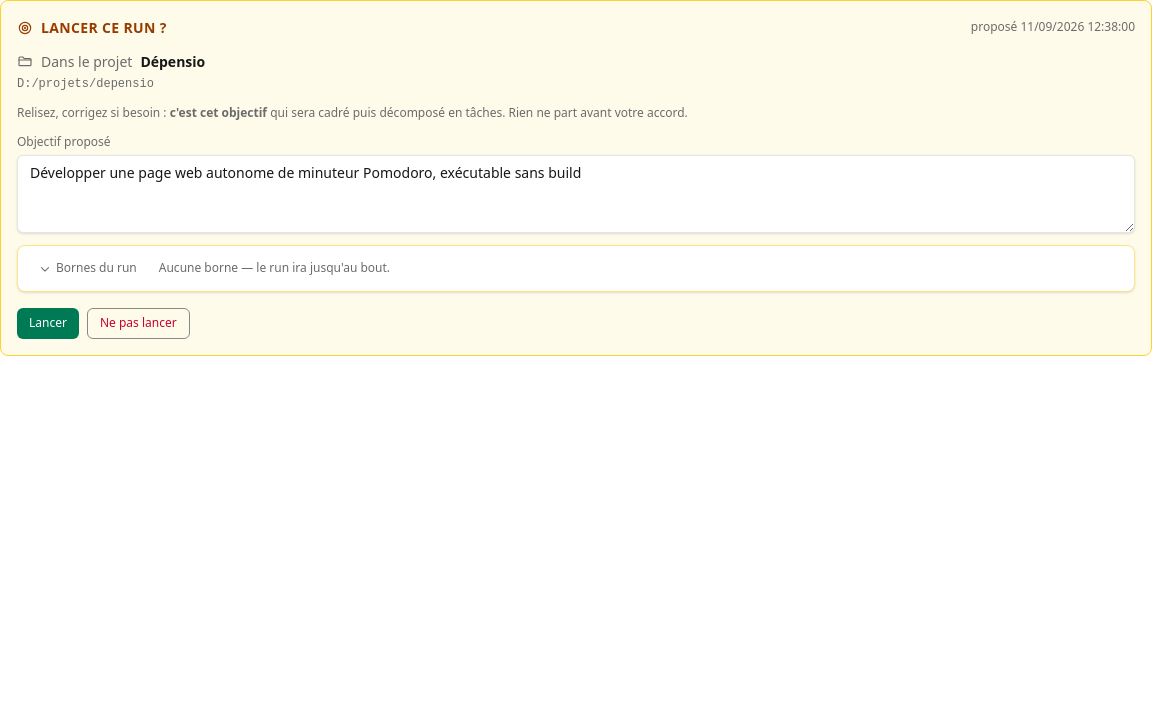
Test: ⑤ borner le run, là où on le lance › refuse de lancer sur une borne illisible, plutôt que de la perdre
Click the button "Bornes du run" at (87, 269), box top-left (28, 256), bottom-right (147, 281)
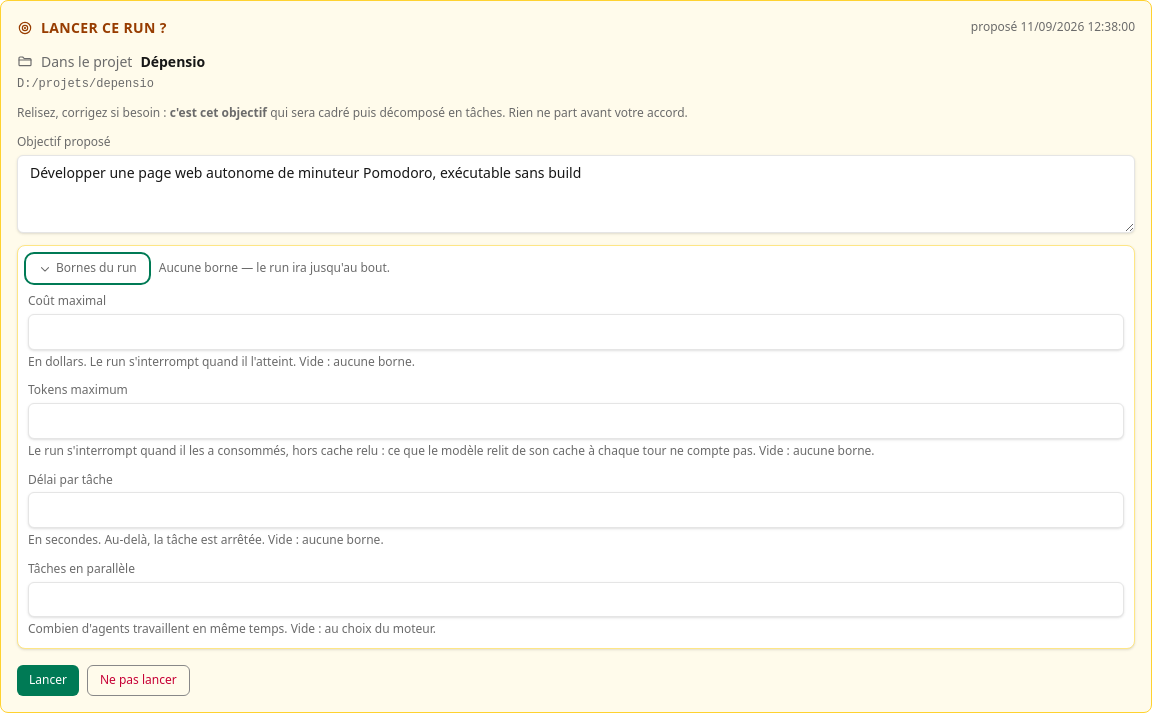
Type "beaucoup" into the field labelled "Coût maximal" at (576, 332), box top-left (28, 314), bottom-right (1124, 350)
(page scrolled)
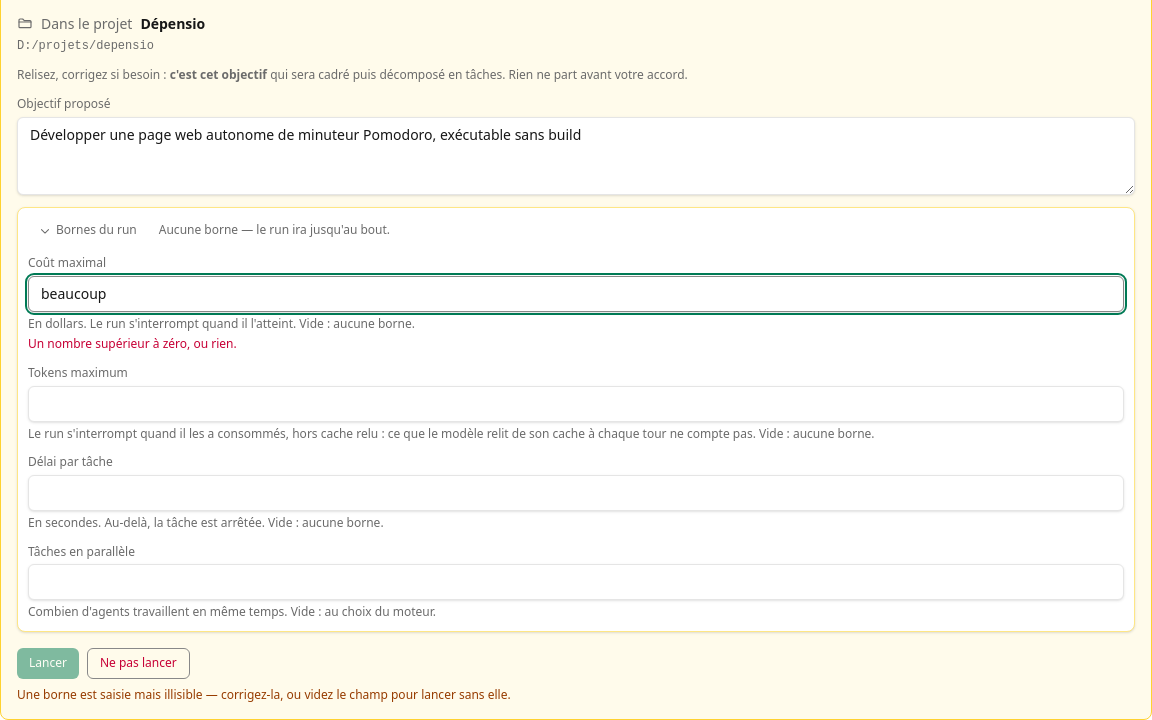
Check: the button "Lancer" is disabled, box top-left (17, 648), bottom-right (79, 678)
Check: the text "illisible" is shown, box top-left (17, 686), bottom-right (511, 702)
